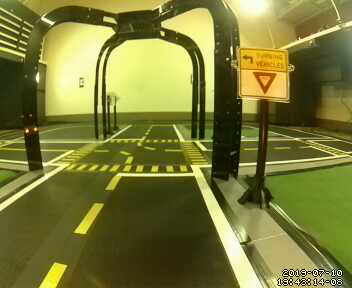Turn Yield: (239, 44, 291, 106)
